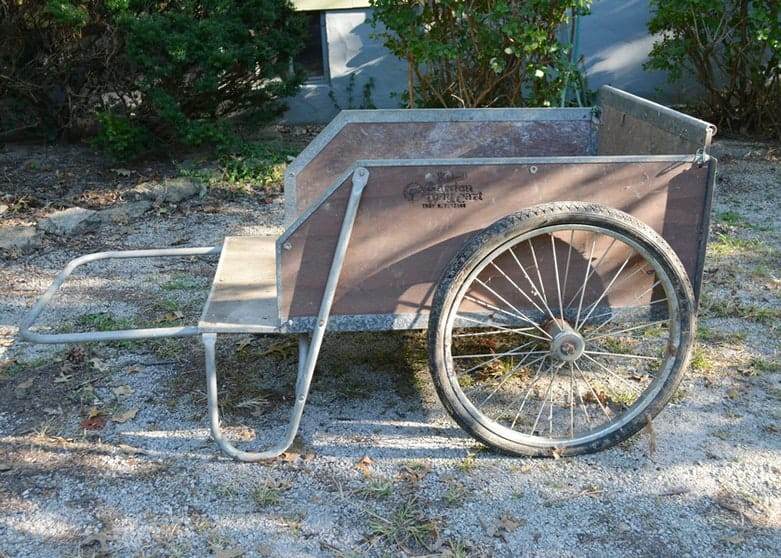Carts: (17, 81, 719, 463)
